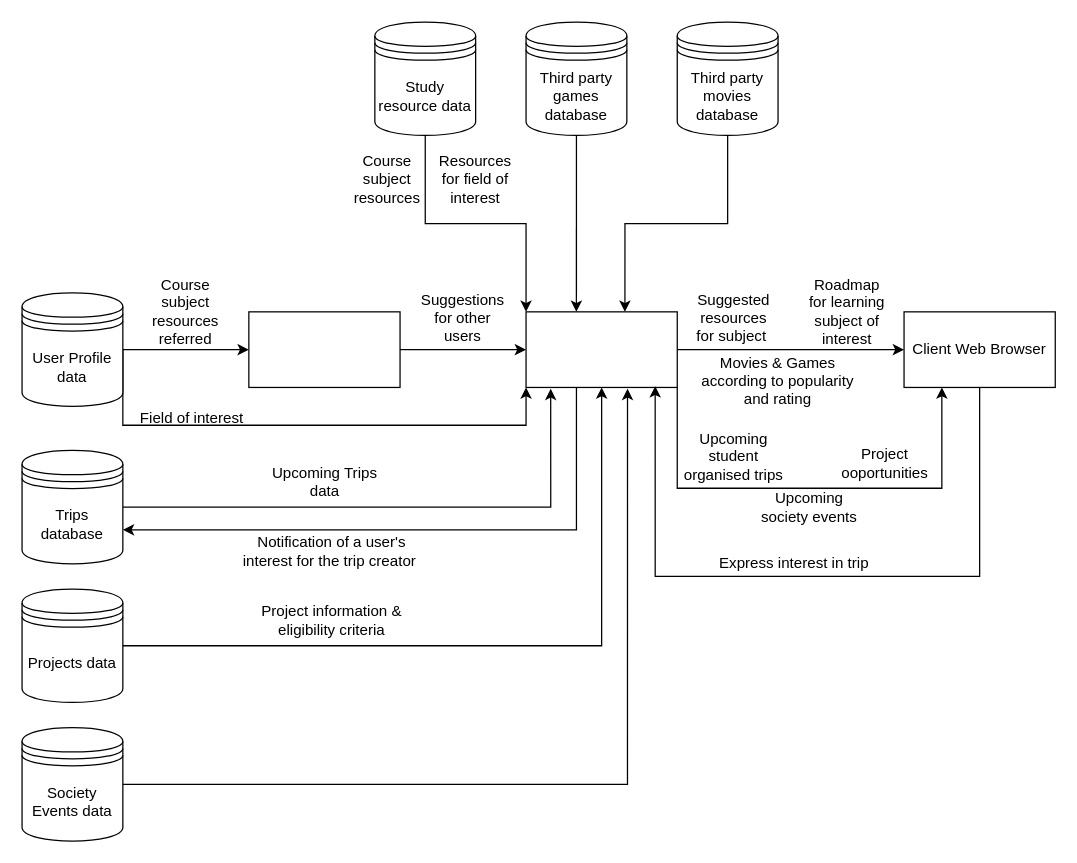
Some shapes in this 1077 by 863 pixel diagram are drawn without their labels. Each missing label, with the centre of its shape:
"Application Server" goes at [601,349].
"Machine Learning Model" goes at [324,349].
